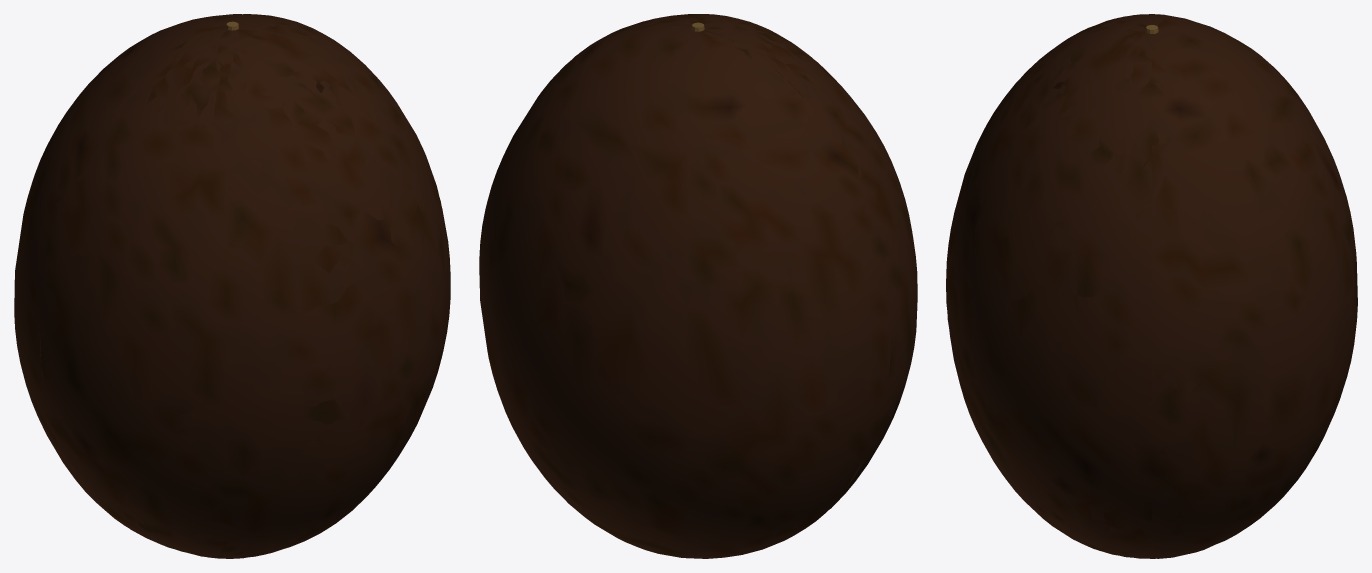
File: kiwi.glb
3 renders of one model, left to right at view 1: azimuth 30°, elevation 25°; view 2: azimuth 150°, elevation 25°; view 3: azimuth 270°, elevation 25°, orthographic.
Parts seen in each view (by area): view 1: entier_peau, moitie_B_peau, moitie_A_peau; view 2: entier_peau, moitie_A_peau, moitie_B_peau; view 3: entier_peau, moitie_B_peau, moitie_A_peau.
Boxes of the visible parts, x1=… form: entier_peau: x1=14, y1=15, x2=450, y2=558; moitie_B_peau: x1=39, y1=24, x2=450, y2=558; moitie_A_peau: x1=14, y1=14, x2=337, y2=503; entier_peau: x1=479, y1=14, x2=917, y2=558; moitie_A_peau: x1=479, y1=25, x2=889, y2=558; moitie_B_peau: x1=603, y1=14, x2=917, y2=509; entier_peau: x1=946, y1=14, x2=1357, y2=558; moitie_B_peau: x1=946, y1=14, x2=1151, y2=558; moitie_A_peau: x1=1152, y1=14, x2=1357, y2=558.
Bounding box in the file's own units: 1.16 × 1.49 × 1.08.
